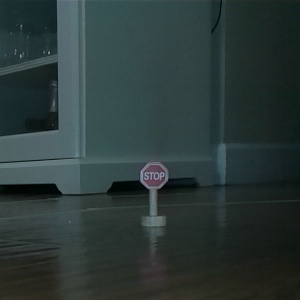stop sign: (137, 160, 169, 227)
